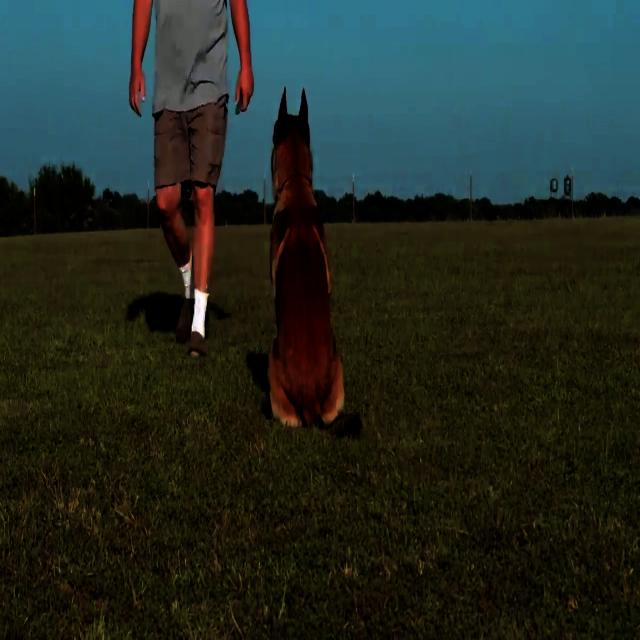Unleashed_Dog: (200, 84, 362, 443)
